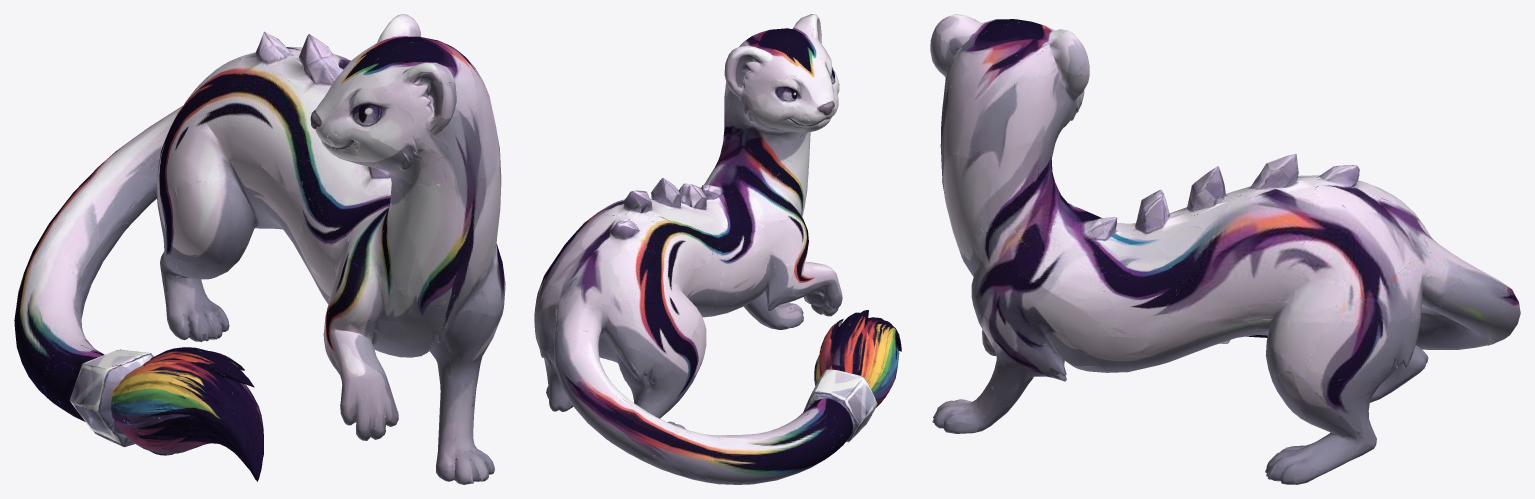
3 views of the same model, side by side, from view 1: azimuth 30°, elevation 25°; view 2: azimuth 150°, elevation 25°; view 3: azimuth 270°, elevation 25° (orthographic). The views are drawn at different scales.
Visible parts, largest first — view 1: yaw_fix; view 2: yaw_fix; view 3: yaw_fix.
Part boxes in pixels (bbox=[...]): yaw_fix: bbox=[14, 14, 505, 484]; yaw_fix: bbox=[534, 14, 901, 484]; yaw_fix: bbox=[930, 14, 1520, 484].
Bounding box in the file's own units: 1.34 × 1.43 × 1.9.
1 material, 1 textured.
